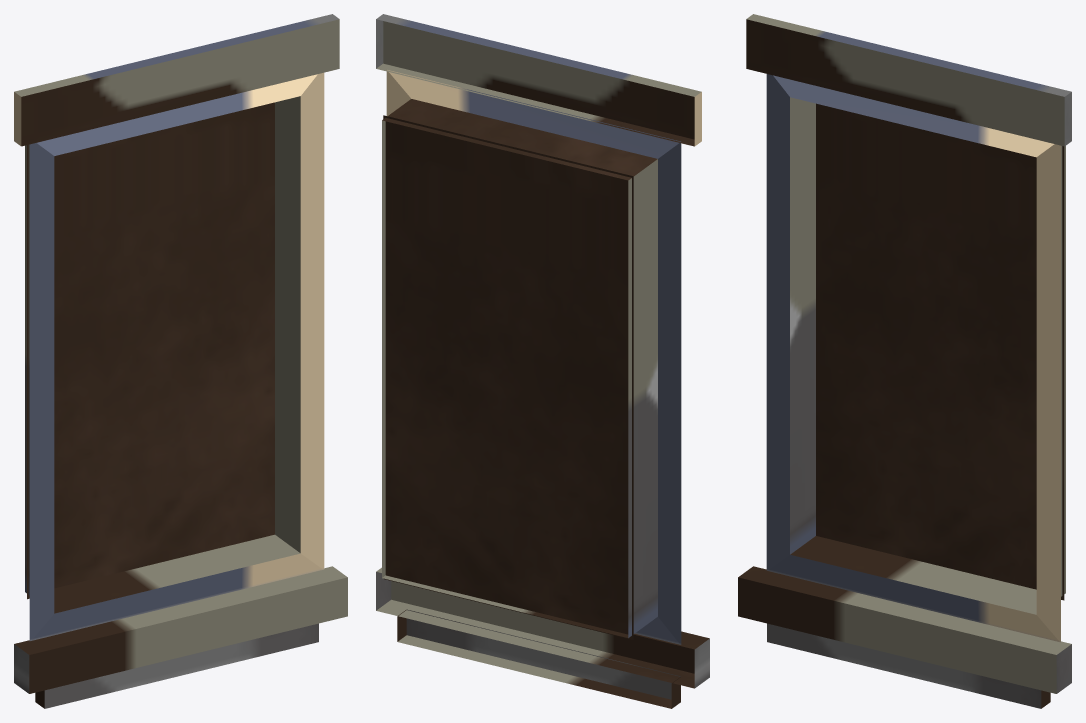
File: M_3W_2F_building_parts8.fbx
The picture shows the model from 3 angles, left to right: view 1: azimuth 30°, elevation 25°; view 2: azimuth 150°, elevation 25°; view 3: azimuth 330°, elevation 25°; orthographic projection.
Parts seen in each view (by area): view 1: Object054; view 2: Object054; view 3: Object054.
Boxes of the visible parts, x1,y1,x2,y2 form: Object054: (14,14,347,708); Object054: (376,14,709,708); Object054: (738,14,1071,708).
Bounding box in the file's own units: 308 × 569 × 71.85.
